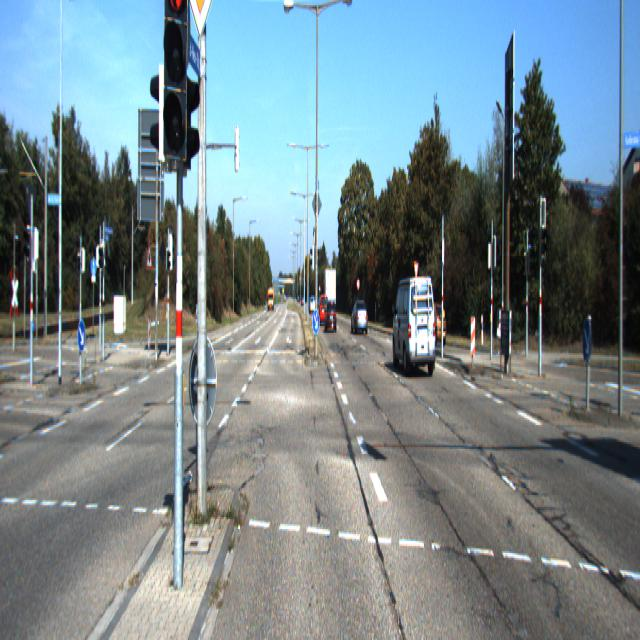Car: (392, 271, 437, 379), (412, 298, 447, 344), (351, 298, 368, 334)
